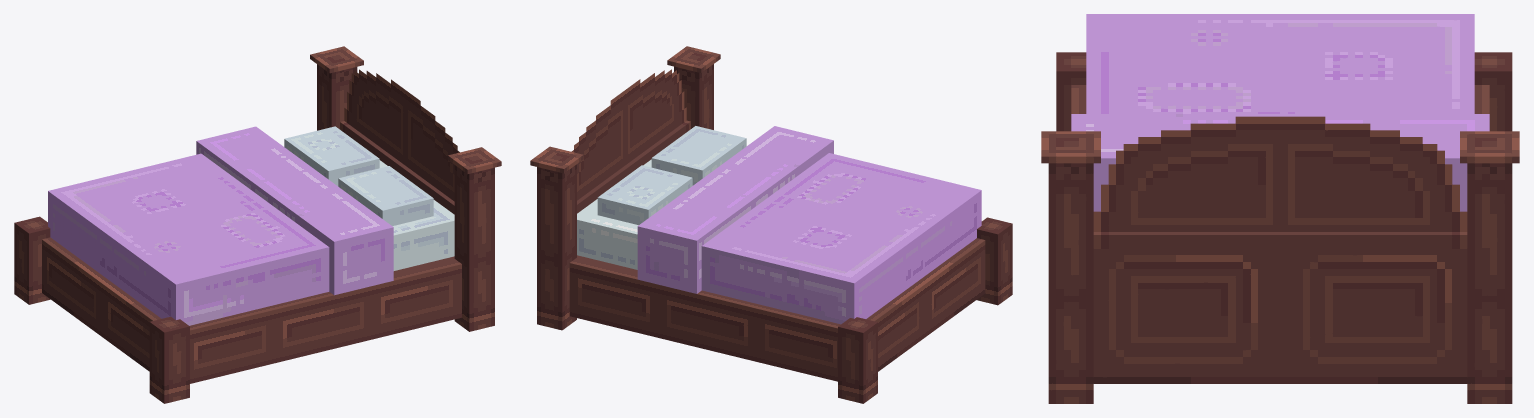
Rendered from cama.glb.
3 views of the same model, side by side, from view 1: azimuth 30°, elevation 25°; view 2: azimuth 150°, elevation 25°; view 3: azimuth 270°, elevation 25° (orthographic). The views are drawn at different scales.
Visible parts, largest first — view 1: cube (×14); view 2: cube (×14); view 3: cube (×11).
Part boxes in pixels (x1=…): cube (×14): x1=14, y1=46, x2=501, y2=403; cube (×14): x1=530, y1=46, x2=1012, y2=403; cube (×11): x1=1041, y1=14, x2=1519, y2=403.
Bounding box in the file's own units: 2.44 × 1.5 × 2.
Materials: 1 (1 with a texture image).
